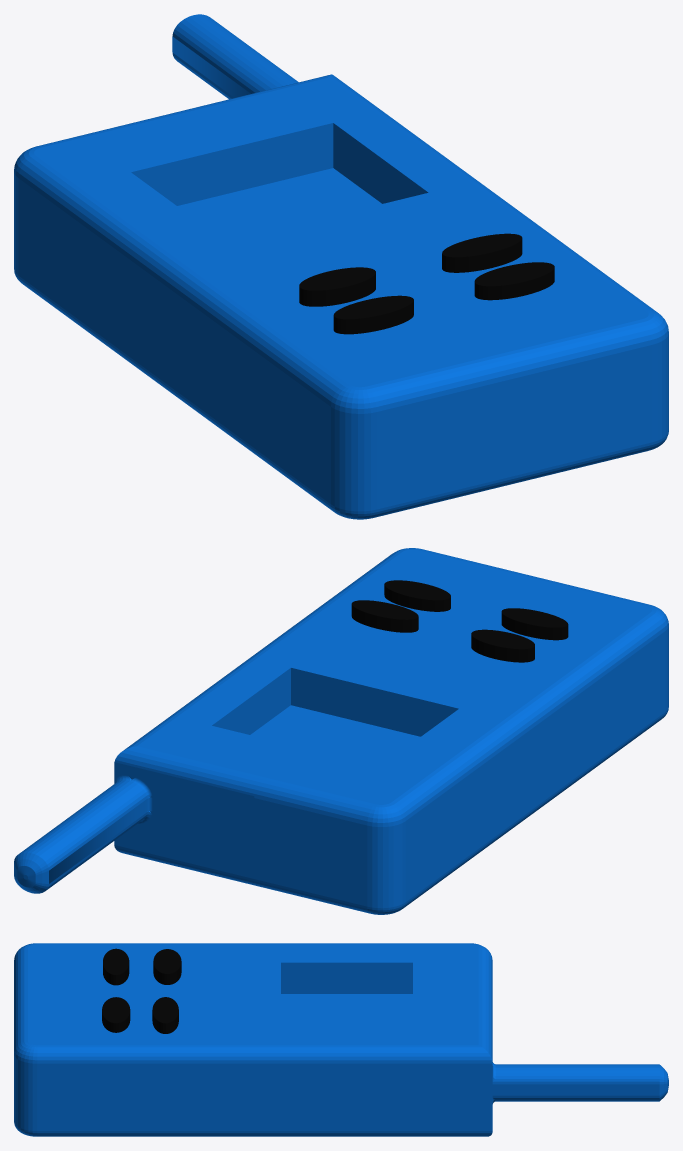
The picture shows the model from 3 angles, top to bottom: view 1: azimuth 30°, elevation 25°; view 2: azimuth 150°, elevation 25°; view 3: azimuth 270°, elevation 25°; orthographic projection. The views are drawn at different scales.
Visible parts, largest first — view 1: Cylinder.002_Cylinder.006; view 2: Cylinder.002_Cylinder.006; view 3: Cylinder.002_Cylinder.006.
Boxes of the visible parts, x1,y1,x2,y2 form: Cylinder.002_Cylinder.006: [14, 14, 668, 519]; Cylinder.002_Cylinder.006: [14, 548, 668, 914]; Cylinder.002_Cylinder.006: [14, 943, 668, 1136].
Size of the model in its own units: 0.2095 by 0.0867 by 0.515.
